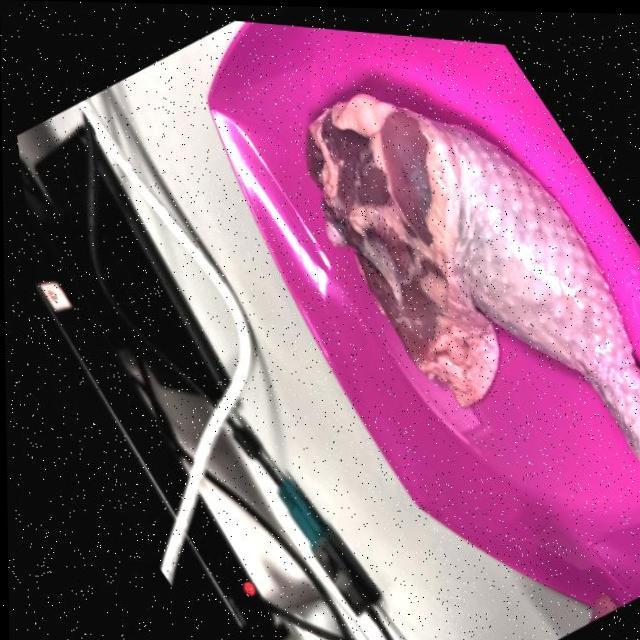quater: (308, 94, 640, 446)
